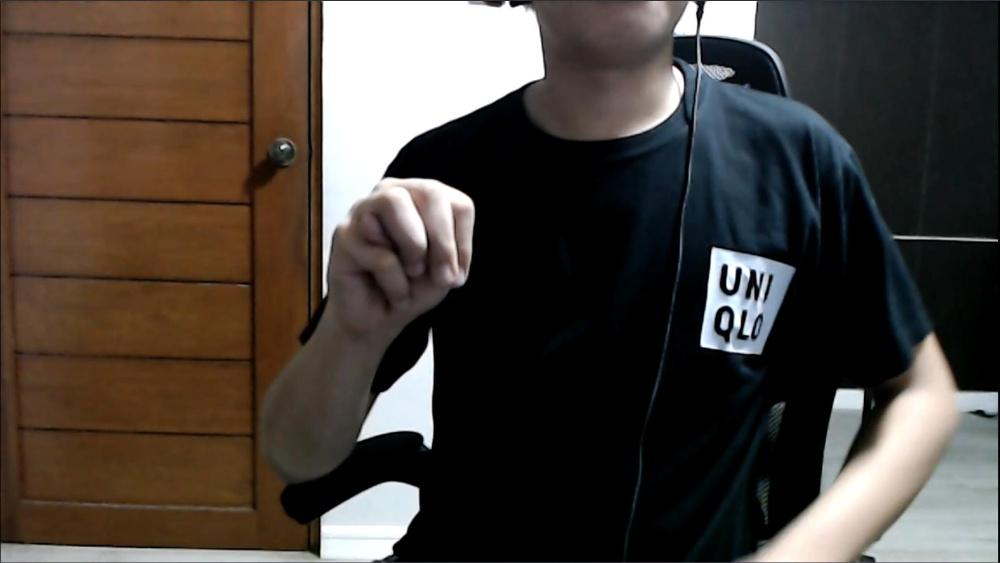m: (327, 176, 476, 329)
